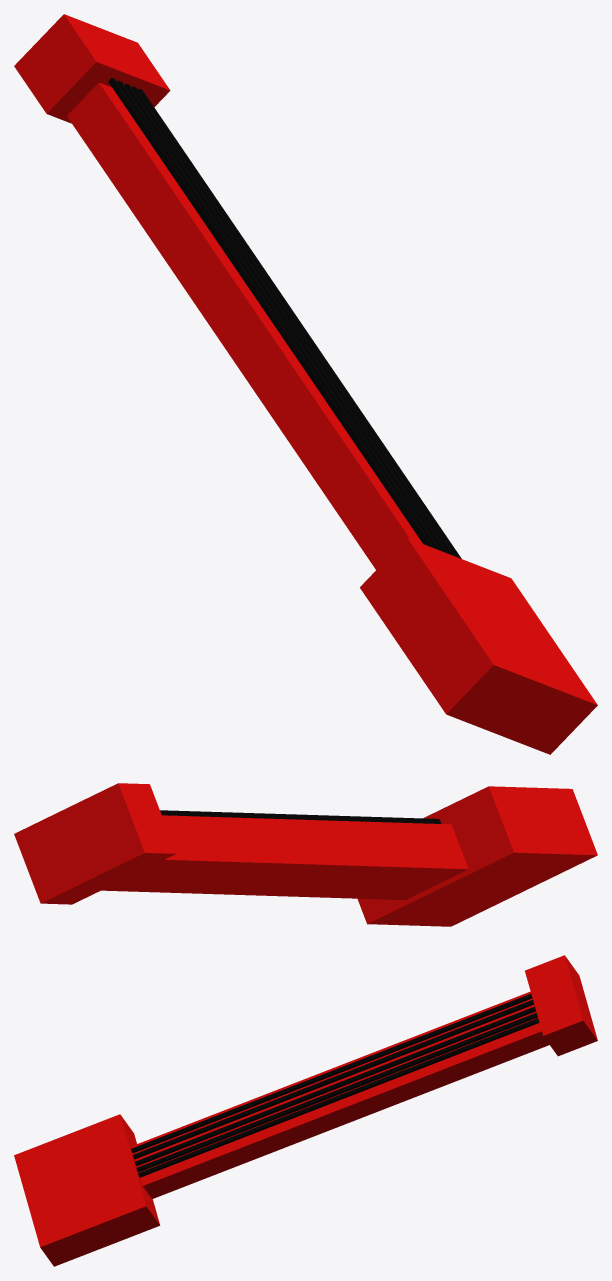
Rendered from guitar.glb.
The picture shows the model from 3 angles, top to bottom: view 1: azimuth 30°, elevation 25°; view 2: azimuth 150°, elevation 25°; view 3: azimuth 270°, elevation 25°; orthographic projection. The views are drawn at different scales.
Visible parts, largest first — view 1: Cube.002, Cube, Cube.001, String5, String3, String2, String4, String1; view 2: Cube.002, Cube, Cube.001, String5; view 3: Cube.002, Cube, Cube.001, String5, String4, String1, String2, String3.
Boxes of the visible parts, x1,y1,x2,y2 form: Cube.002: (67, 82, 422, 569); Cube: (360, 538, 597, 754); Cube.001: (14, 14, 170, 123); String5: (108, 78, 434, 548); String3: (124, 83, 448, 553); String2: (132, 86, 455, 556); String4: (117, 80, 441, 551); String1: (138, 89, 461, 558); Cube.002: (101, 815, 468, 899); Cube: (357, 786, 597, 926); Cube.001: (14, 783, 176, 904); String5: (160, 810, 441, 823); Cube.002: (131, 991, 549, 1198); Cube: (14, 1114, 160, 1266); Cube.001: (525, 955, 597, 1056); String5: (131, 994, 532, 1153); String4: (133, 999, 534, 1159); String1: (138, 1018, 539, 1177); String2: (136, 1012, 537, 1172); String3: (135, 1006, 535, 1165).
Size of what is drawn, in the model's own units: 5.93 by 16.01 by 29.42.
